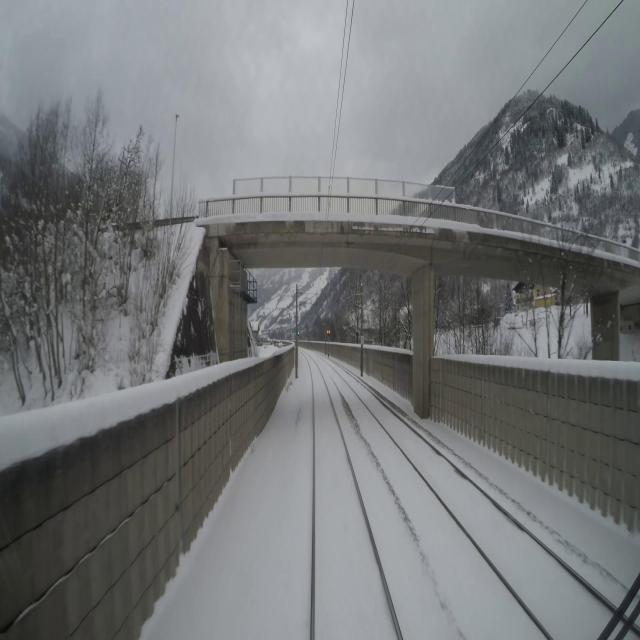rail-track: (339, 369, 614, 639)
